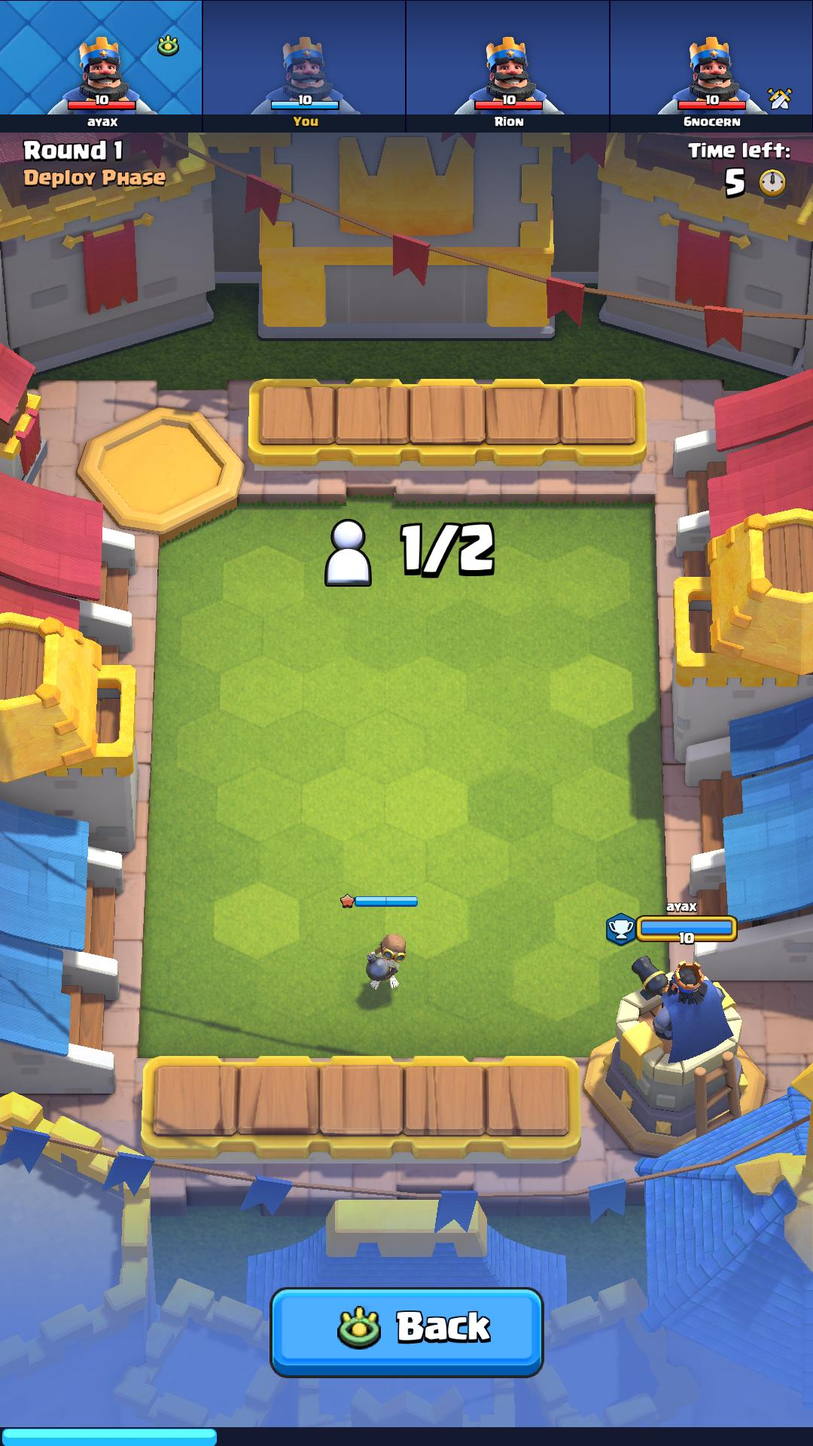bomber: (350, 925, 418, 991)
